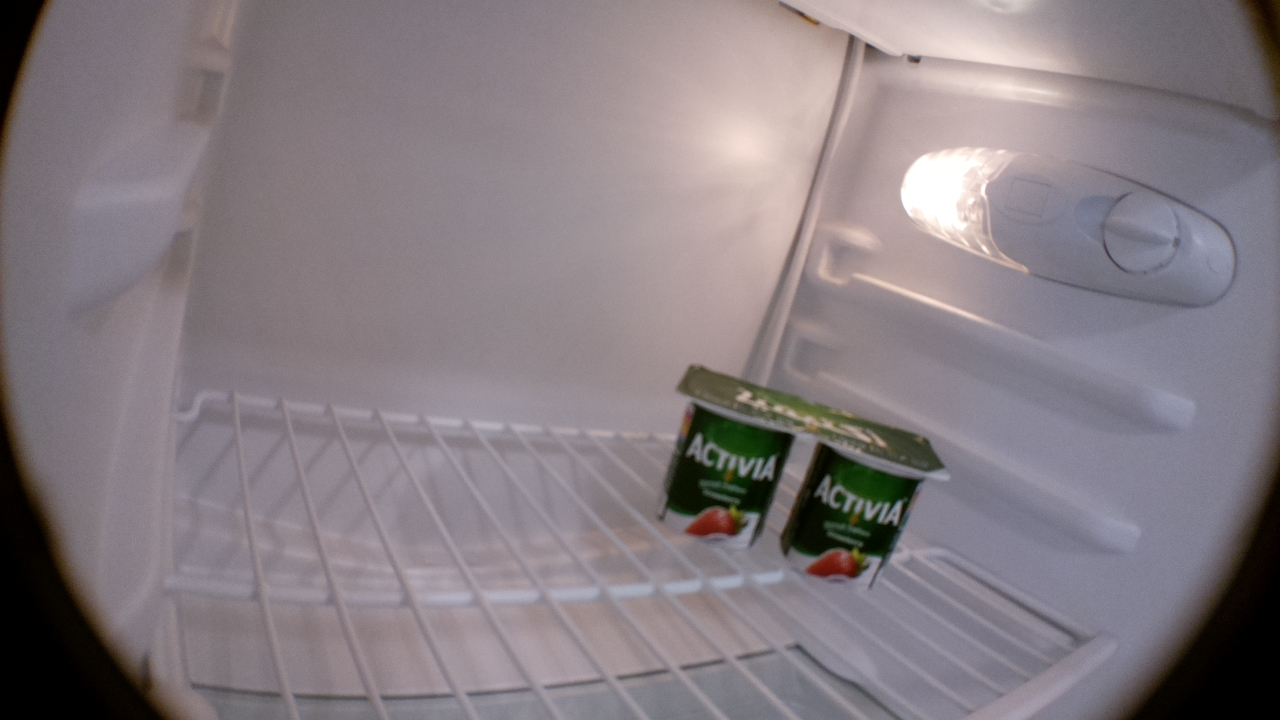yoghurt: (780, 406, 953, 594), (652, 363, 804, 551)
